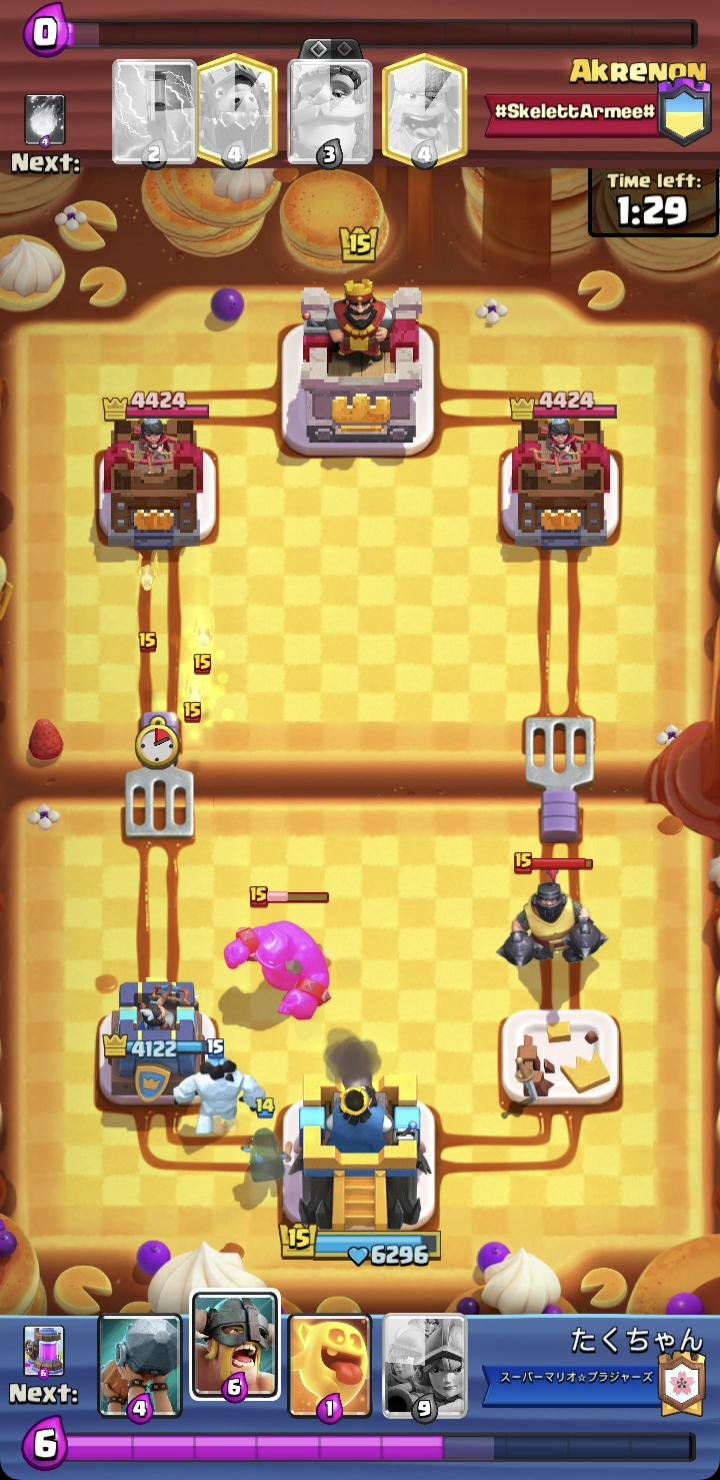ally_bandit: (239, 1095, 294, 1183)
ally_ice_golem: (170, 1038, 267, 1141)
enemy_elixirgolem: (225, 884, 335, 1021)
enemy_mega_knight: (497, 852, 608, 972)
